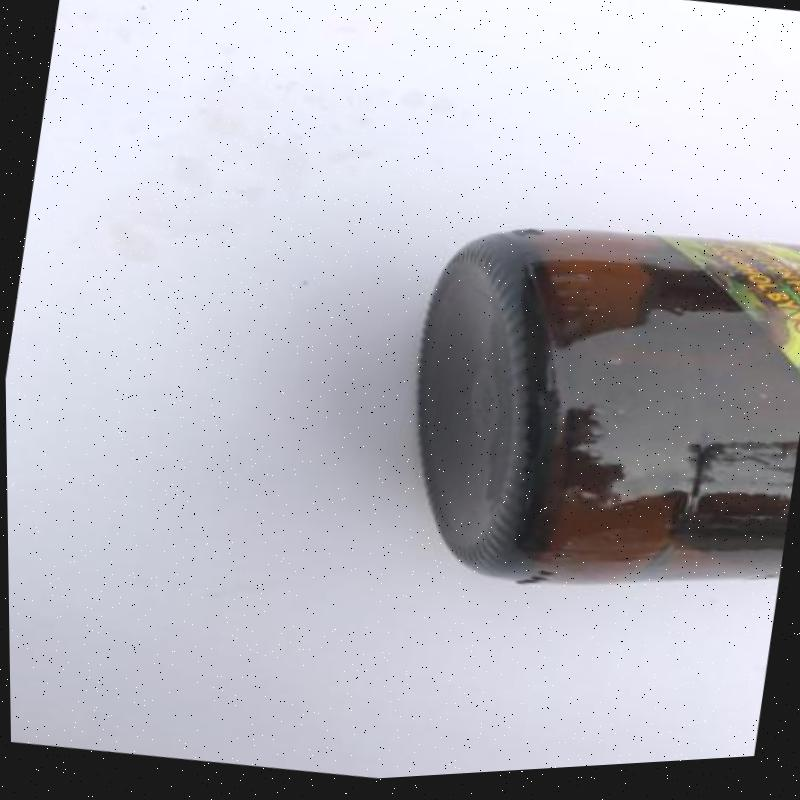glass bottle: (410, 225, 800, 588)
